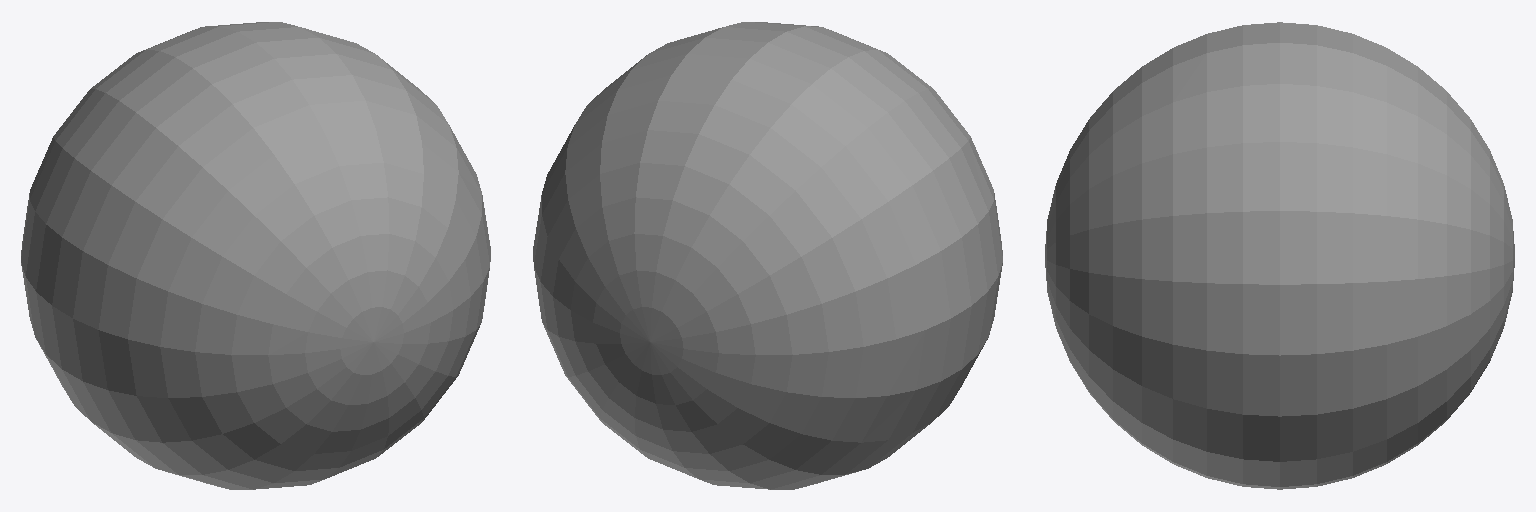
Rendered from earth2.obj.
3 views of the same model, side by side, from view 1: azimuth 30°, elevation 25°; view 2: azimuth 150°, elevation 25°; view 3: azimuth 270°, elevation 25° (orthographic).
Size of the model in its own units: 0.0097 by 0.0097 by 0.0097.